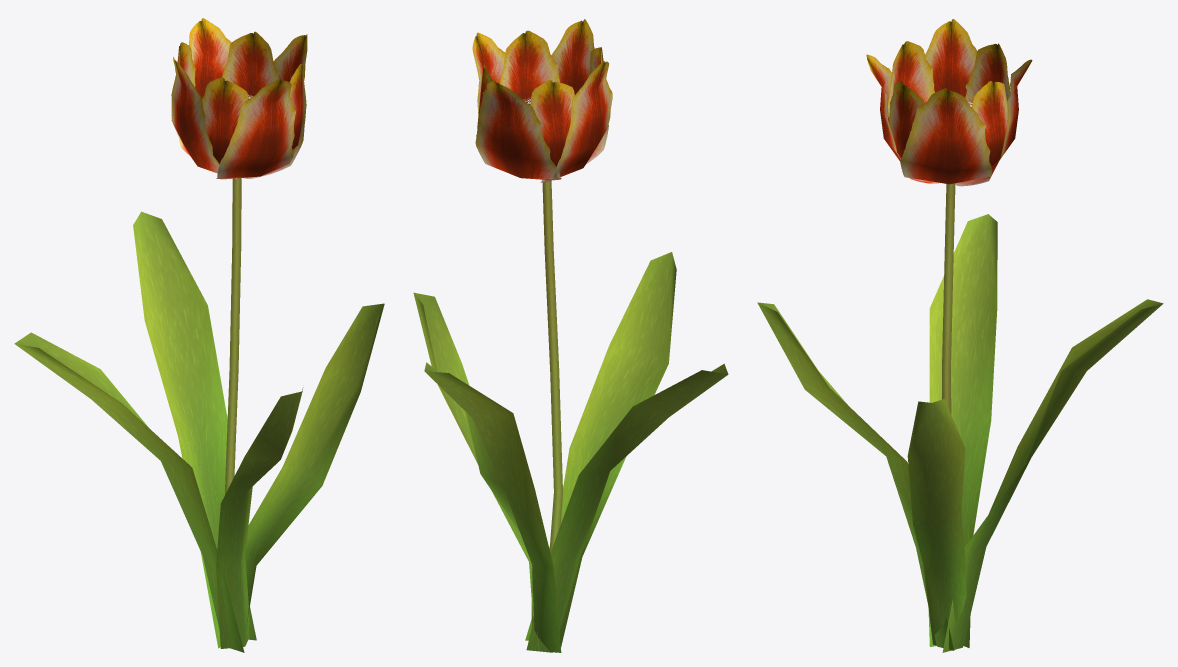
File: m_flower29.fbx
3 renders of one model, left to right at view 1: azimuth 30°, elevation 25°; view 2: azimuth 150°, elevation 25°; view 3: azimuth 270°, elevation 25°, orthographic.
Visible parts, largest first — view 1: mesh_flower29; view 2: mesh_flower29; view 3: mesh_flower29.
Part boxes in pixels (box(x1,y1,x2,y2)): mesh_flower29: box(14, 18, 384, 652); mesh_flower29: box(413, 19, 728, 652); mesh_flower29: box(757, 19, 1163, 652).
Size of the model in its own units: 0.2486 by 0.4208 by 0.2567.
Materials: 1 (1 with a texture image).
